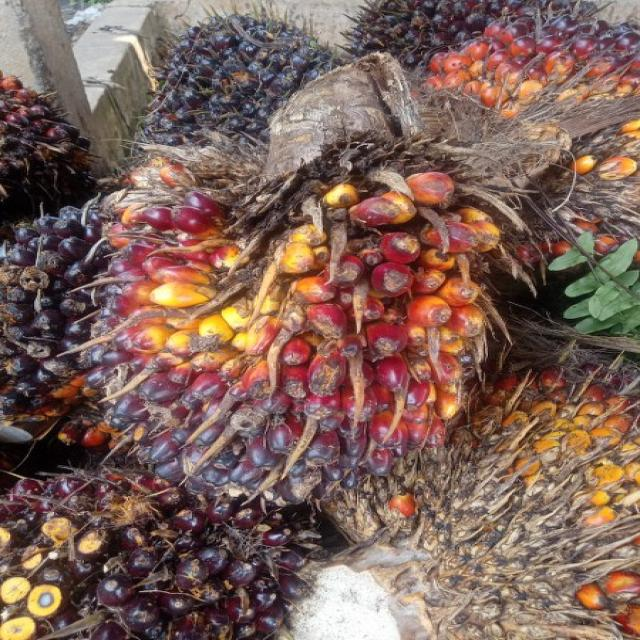fraksi 3: (86, 176, 502, 512)
